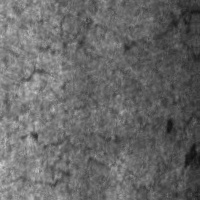crazing: (2, 62, 134, 194), (0, 6, 198, 84)
